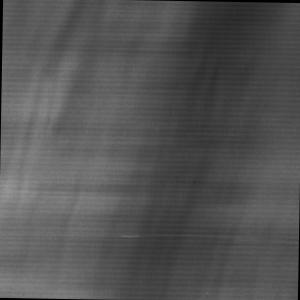Wrinkle: (141, 1, 300, 300), (1, 1, 107, 228), (46, 173, 90, 300)
